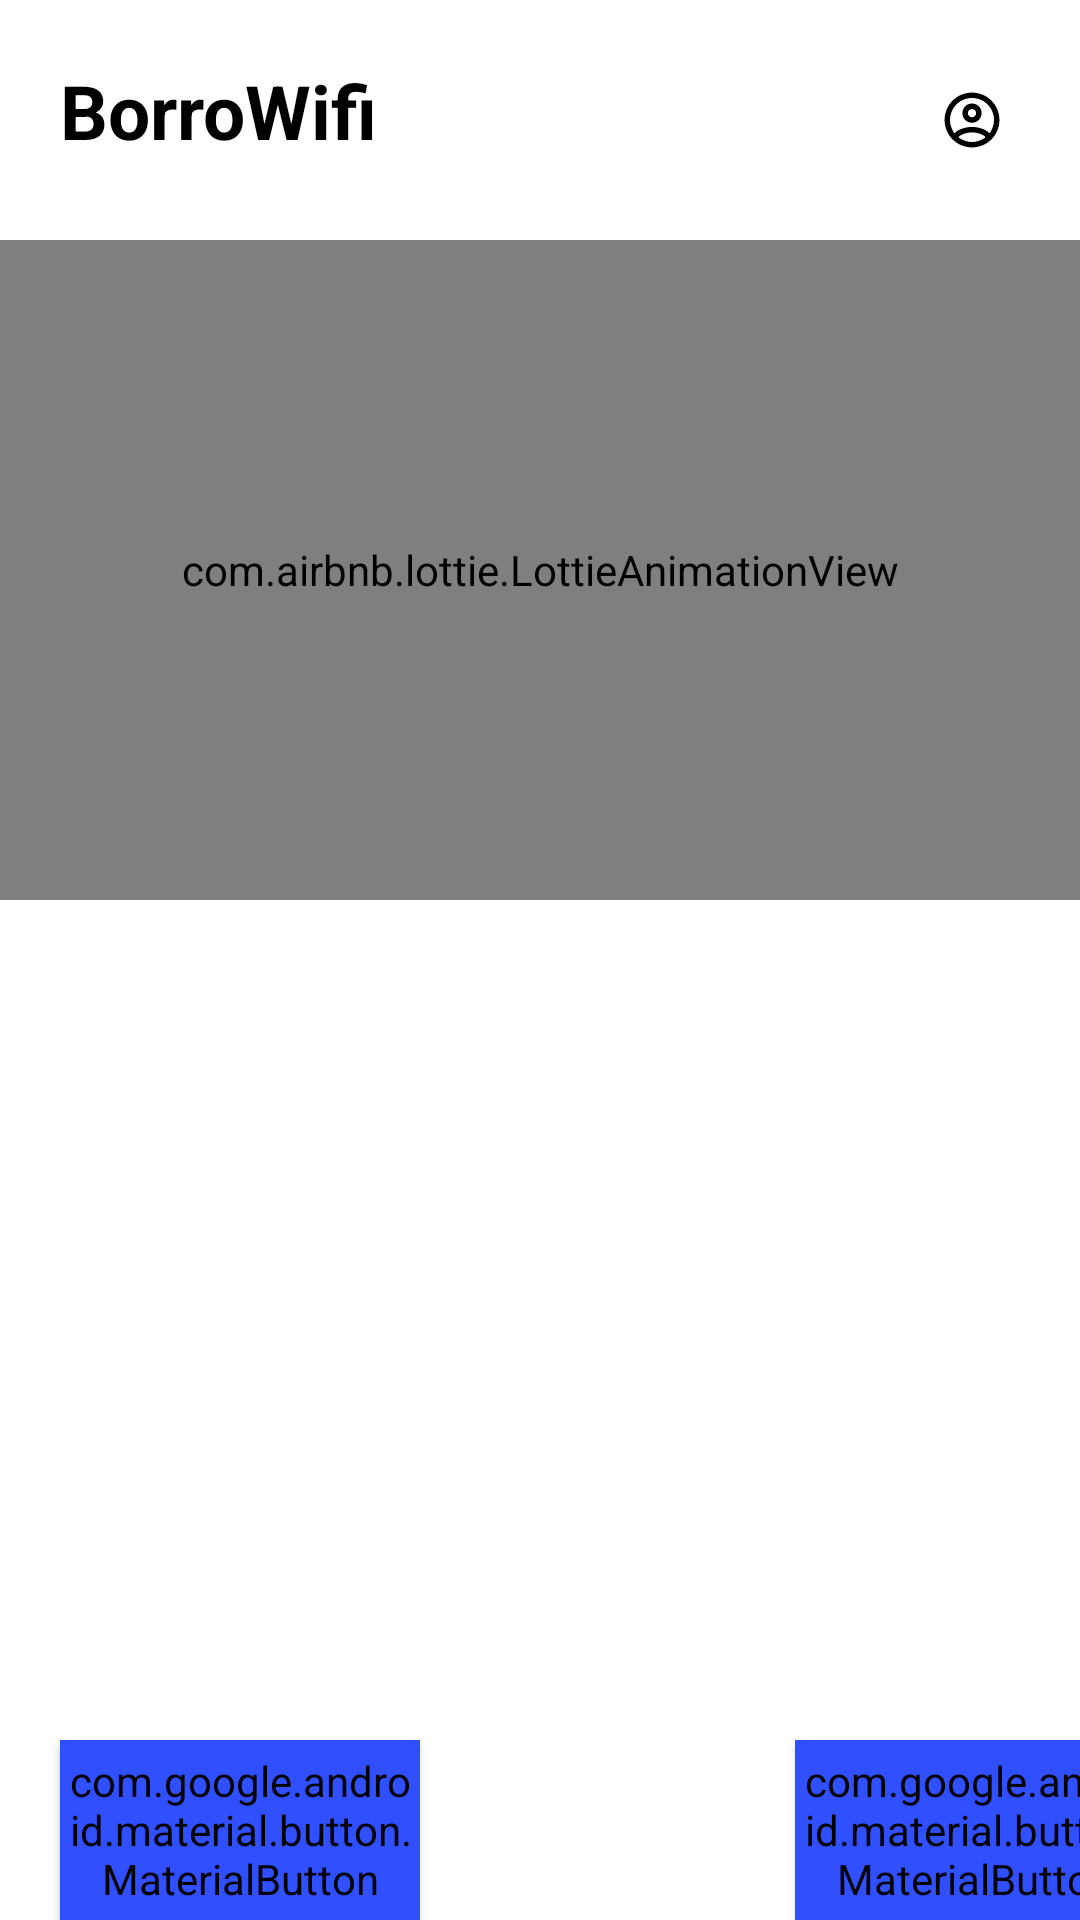

Point at icon controls on the screen. Image size 1080*1920, points as (x=x, y=y).
account circle: (x=972, y=120)
